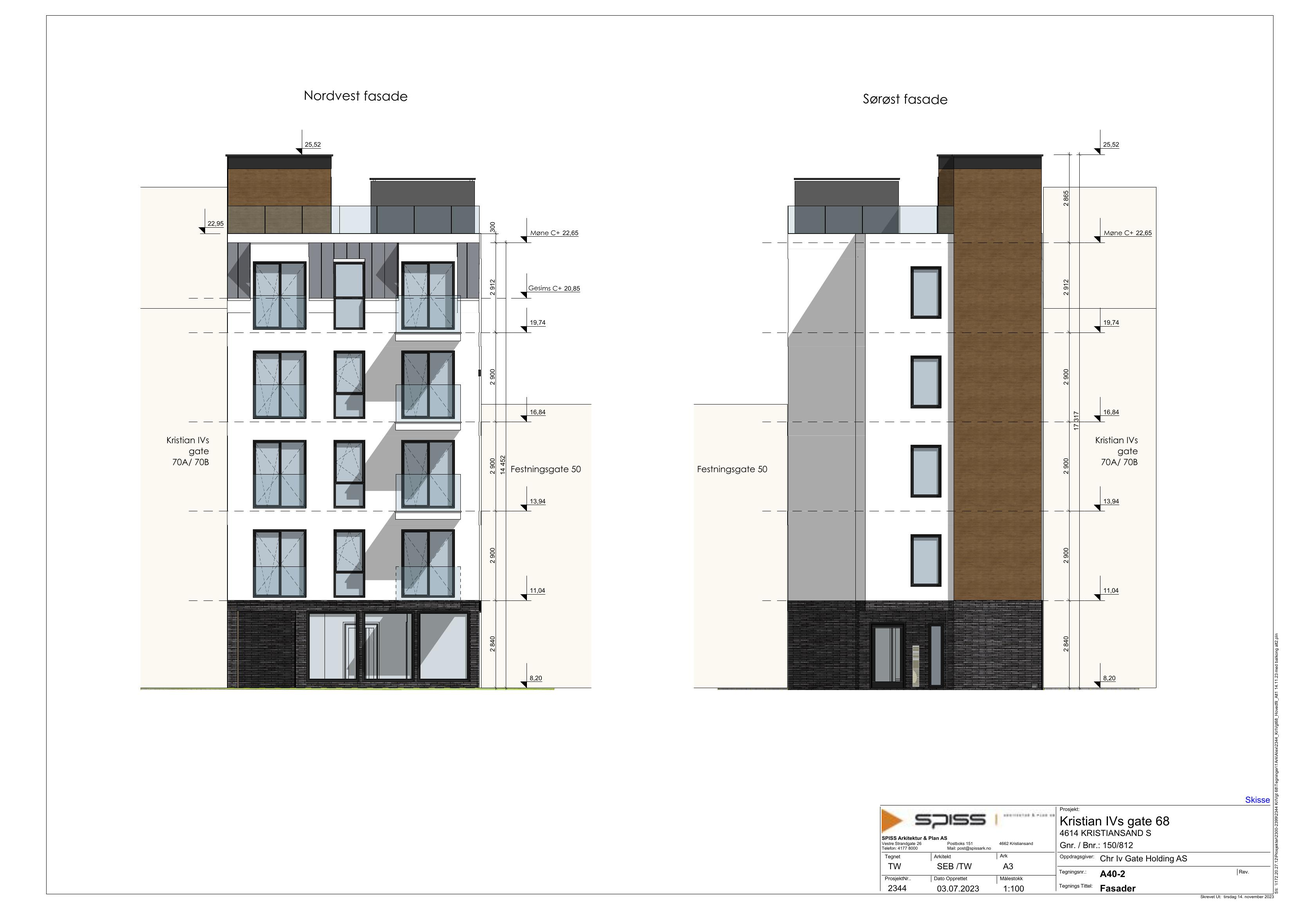fasade: (690, 149, 1163, 696), (130, 151, 598, 697)
